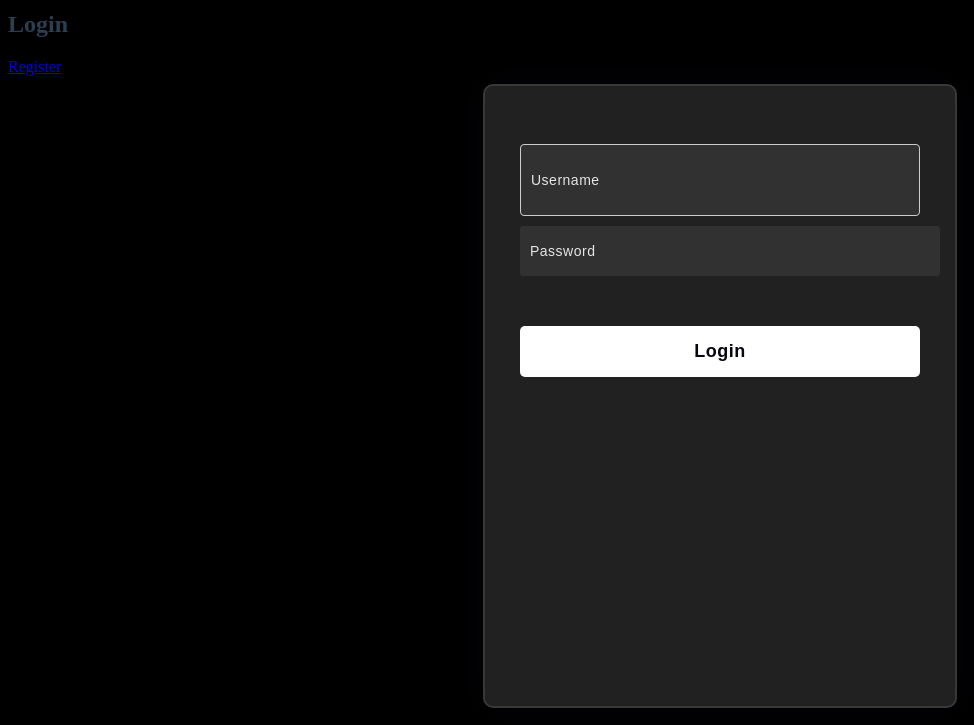
Scenario: Login Component Basic Tests › shows success message on correct credentials
Type "testuser" into the field with placeholder "Username" at [720, 180], box [520, 144, 920, 216]
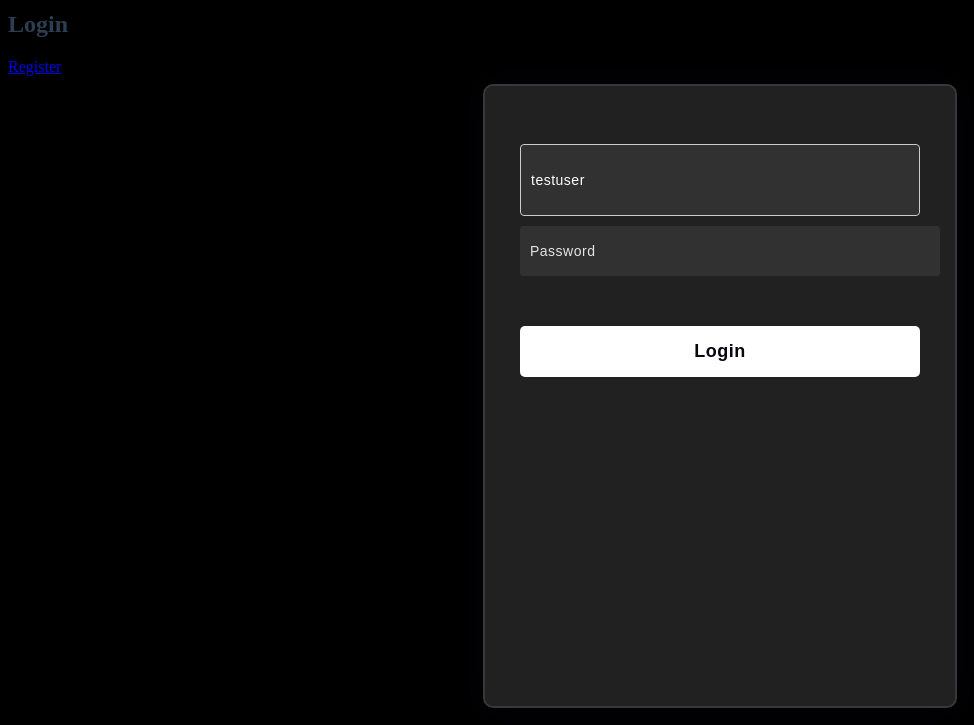
Type "testpass" into the password field with placeholder "Password" at [730, 251], box [520, 226, 940, 276]
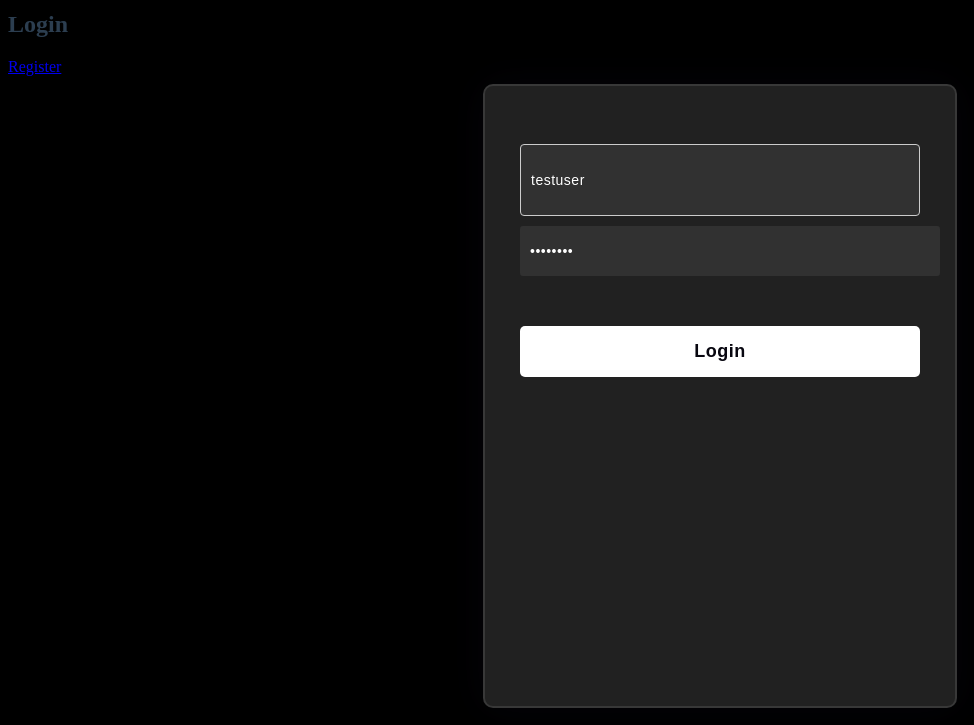
Click the button "Login" at [720, 352], box [520, 326, 920, 377]
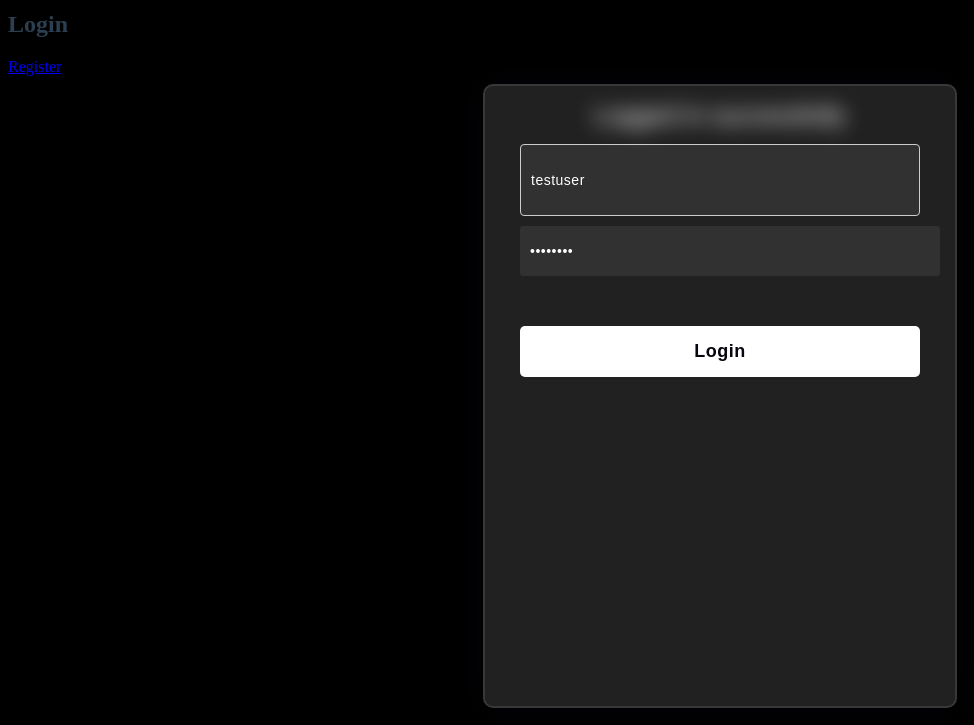
Check: the text "Logged in successfully" is shown, box [594, 101, 846, 129]
